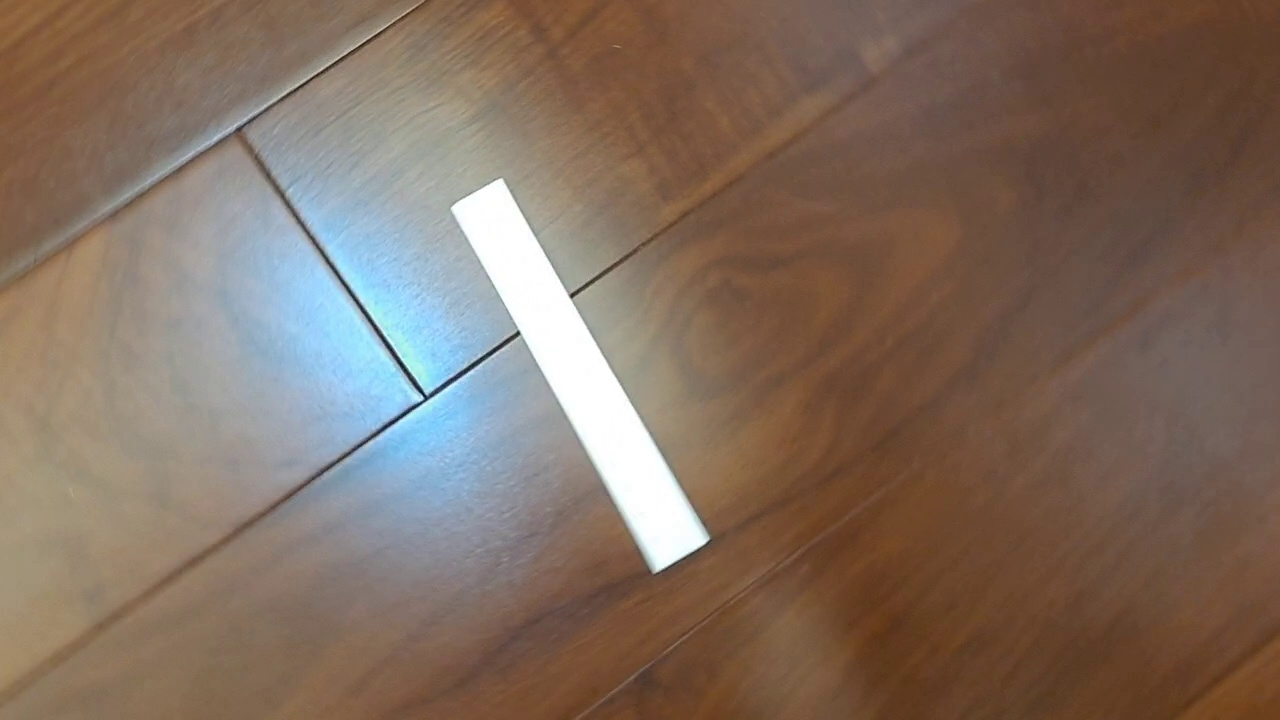ruler: (448, 174, 712, 575)
